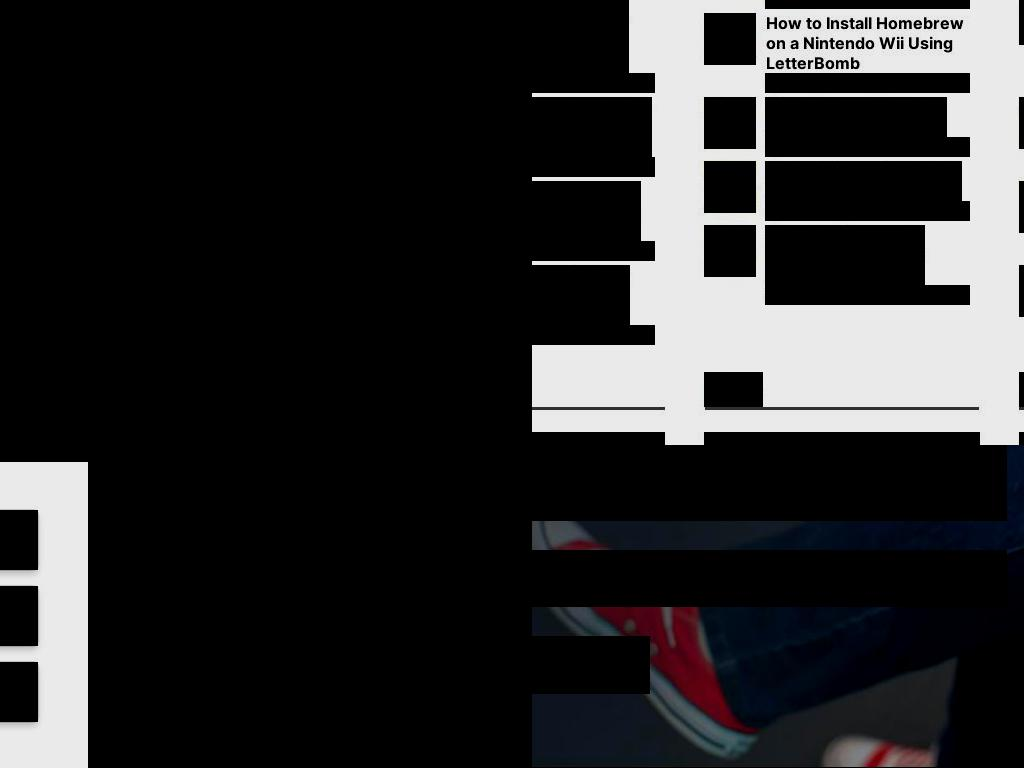button: (233, 63, 532, 236), (233, 242, 532, 315), (0, 378, 214, 445), (233, 397, 532, 436), (0, 246, 214, 295), (0, 299, 209, 338), (532, 636, 650, 694), (233, 329, 532, 349), (233, 363, 532, 383), (334, 472, 473, 512), (0, 221, 214, 241), (328, 33, 532, 51), (0, 337, 173, 357), (704, 13, 756, 65), (704, 97, 756, 149), (704, 161, 756, 213), (704, 225, 756, 277), (480, 468, 532, 516), (194, 33, 328, 51), (20, 33, 111, 51), (111, 33, 194, 51), (0, 33, 20, 51), (448, 0, 472, 11)
heading: (532, 445, 1007, 521), (233, 240, 532, 317), (765, 13, 964, 74), (233, 396, 532, 436), (765, 225, 925, 286), (0, 244, 164, 297), (765, 161, 962, 202), (765, 97, 947, 138), (532, 97, 652, 158), (532, 0, 629, 74), (532, 181, 641, 242), (532, 265, 630, 326), (304, 362, 512, 383), (304, 328, 509, 349), (406, 32, 532, 51), (194, 32, 308, 51), (704, 372, 763, 407), (233, 328, 305, 349), (233, 362, 305, 383), (328, 32, 406, 51), (20, 32, 91, 51), (111, 32, 174, 51)
iframe: (0, 0, 532, 445)
image: (88, 445, 532, 768), (233, 63, 532, 236), (0, 63, 214, 236), (0, 378, 214, 445), (704, 13, 756, 65), (704, 97, 756, 149), (704, 161, 756, 213), (704, 225, 756, 277), (0, 528, 22, 552), (0, 604, 22, 628), (0, 680, 22, 704)
link: (0, 299, 26, 319)
text: (0, 63, 214, 240), (532, 550, 1007, 607), (0, 299, 209, 338), (765, 73, 970, 93), (765, 137, 970, 157), (765, 201, 970, 221), (765, 285, 970, 305), (0, 337, 173, 357), (532, 73, 655, 93), (532, 157, 655, 177), (532, 241, 655, 261), (532, 325, 655, 345), (765, 0, 970, 9)
